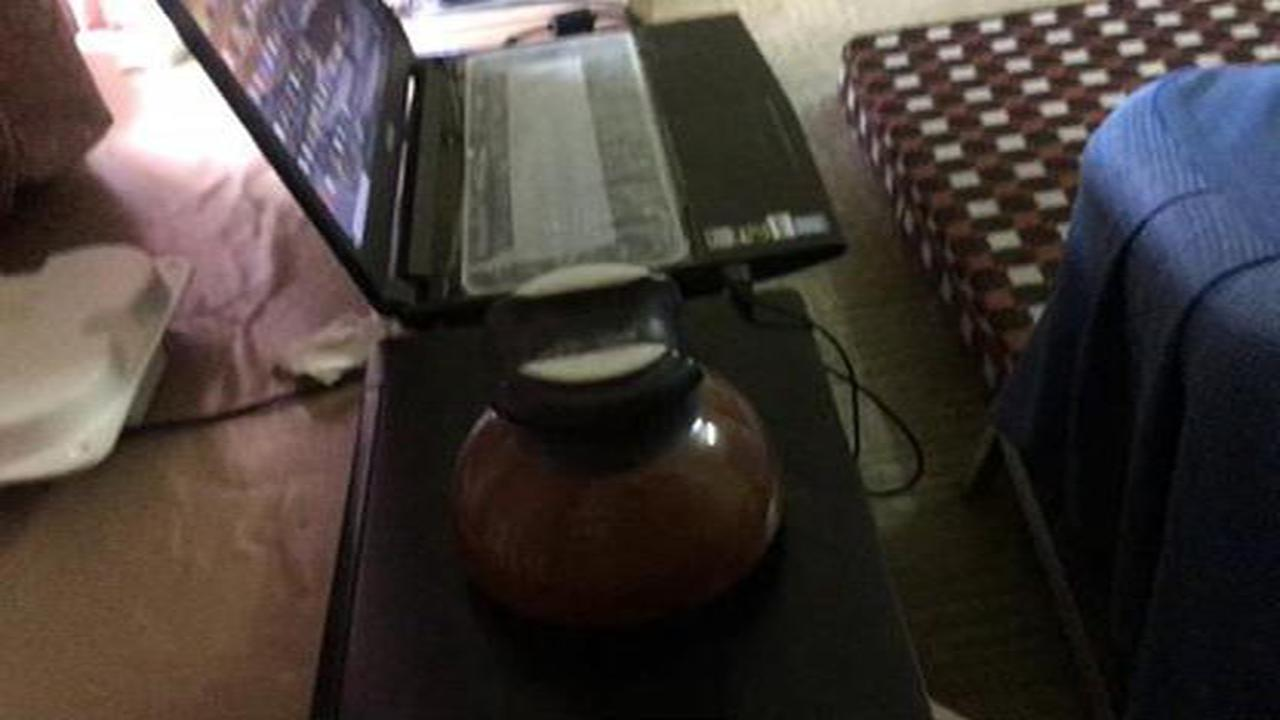insulator_pin: (425, 251, 797, 648)
